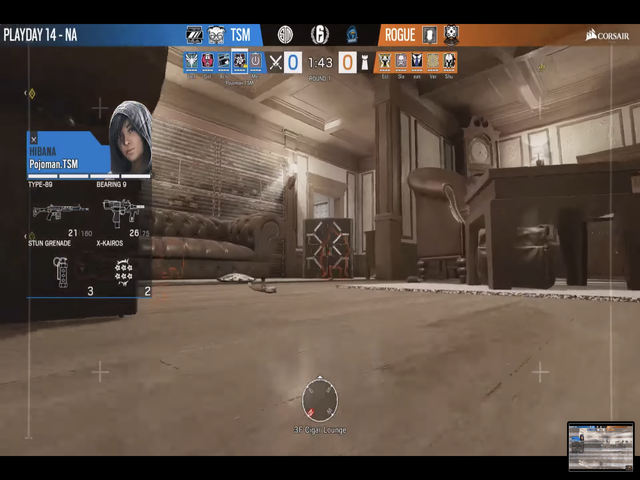0_blue: (282, 49, 304, 75)
